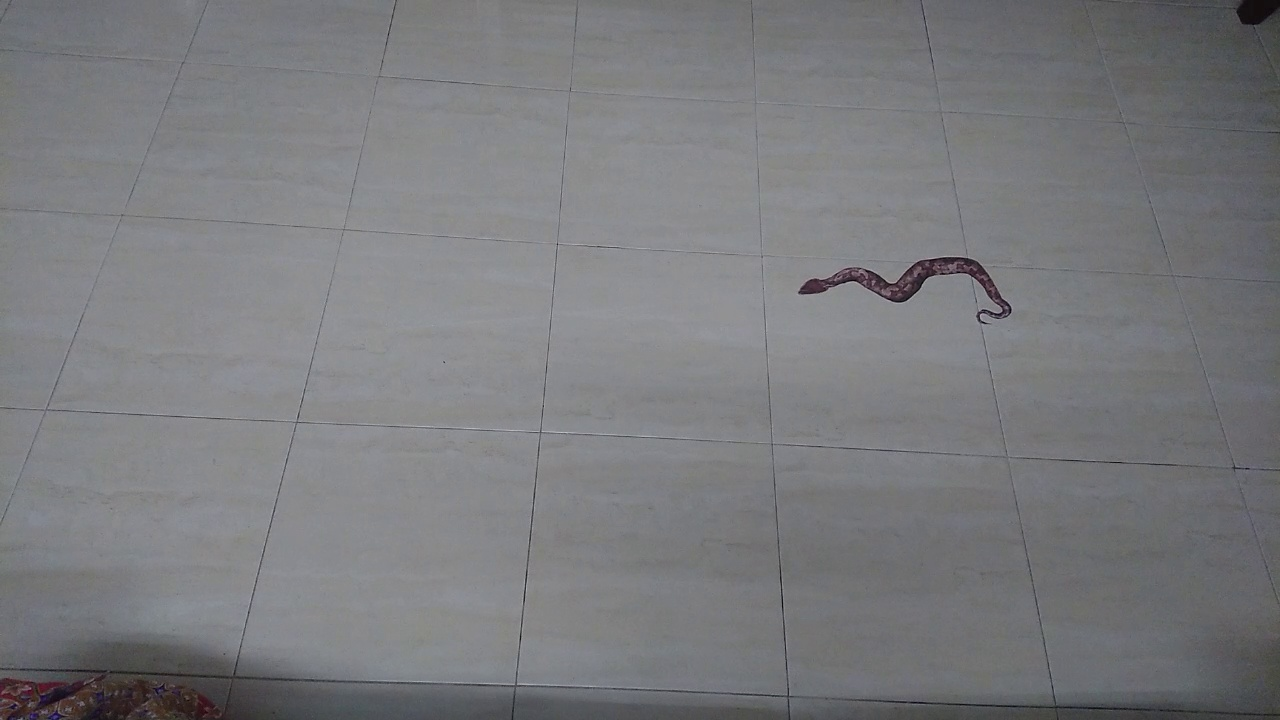snake: (778, 245, 1025, 336)
